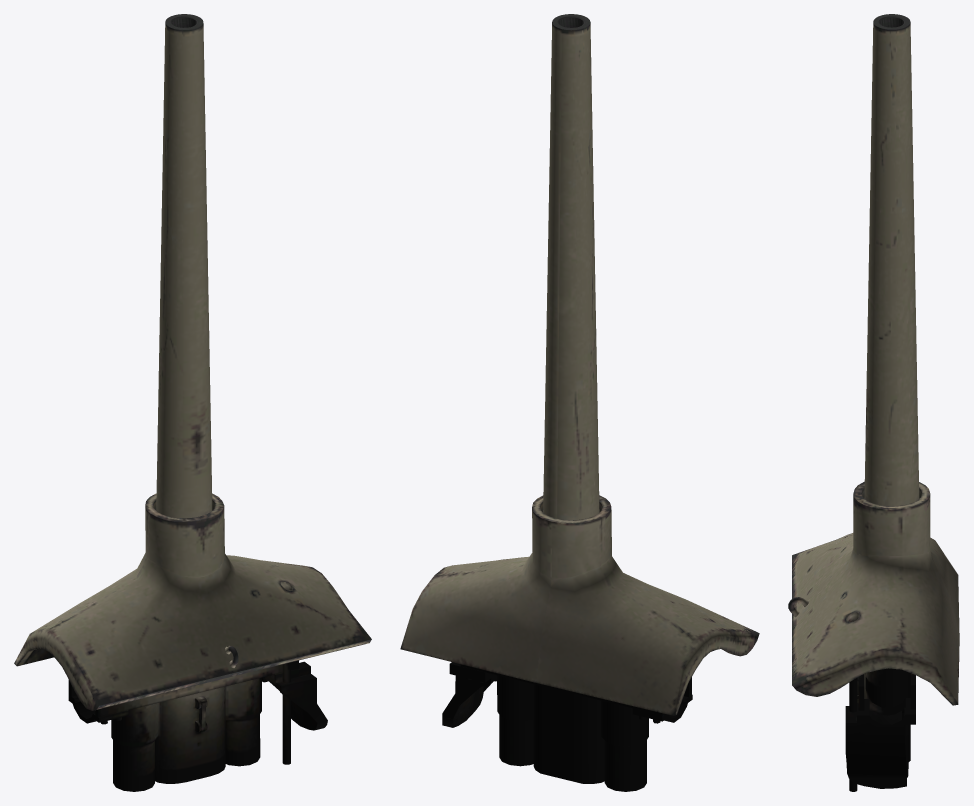
File: Gun_01.glb
3 views of the same model, side by side, from view 1: azimuth 30°, elevation 25°; view 2: azimuth 150°, elevation 25°; view 3: azimuth 270°, elevation 25° (orthographic). The views are drawn at different scales.
Visible parts, largest first — view 1: set_0_group_0; view 2: set_0_group_0; view 3: set_0_group_0.
Boxes of the visible parts, x1,y1,x2,y2 form: set_0_group_0: (14, 14, 371, 791); set_0_group_0: (400, 14, 759, 791); set_0_group_0: (788, 14, 959, 791).
Bounding box in the file's own units: 0.945 × 2.47 × 0.5264.
Materials: 1 (1 with a texture image).
